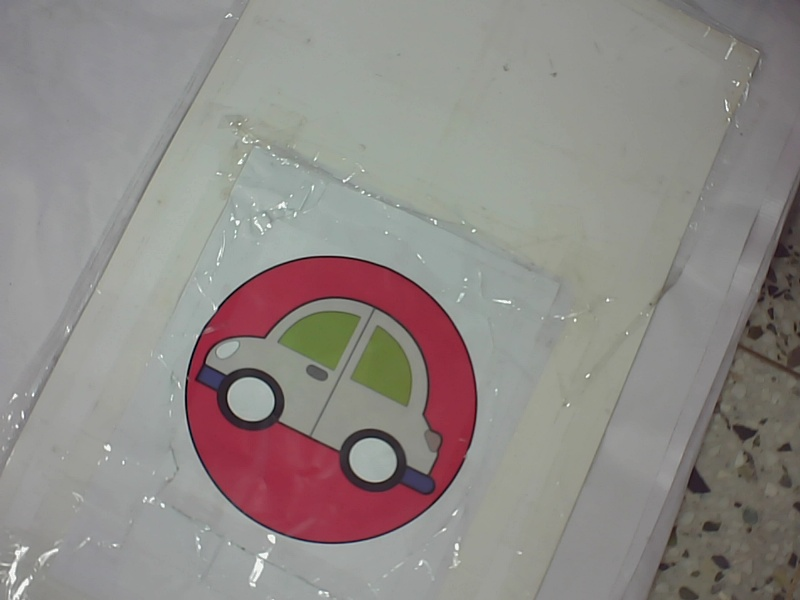areaC: (164, 243, 491, 551)
